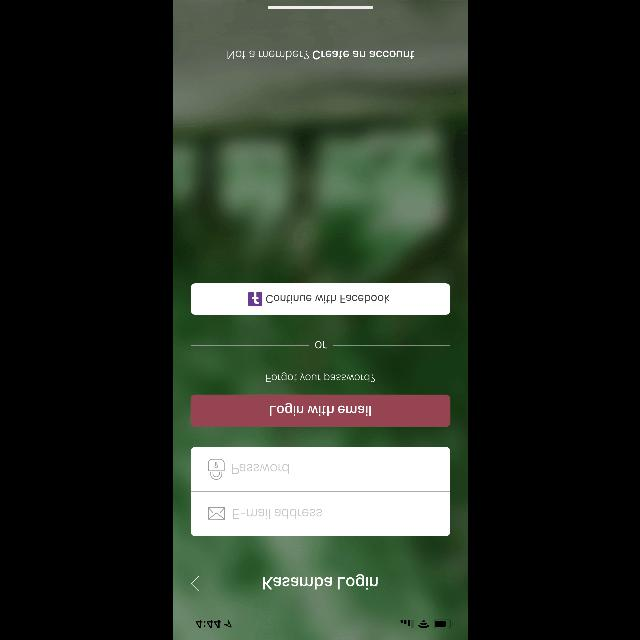backgroundimage: (172, 1, 468, 640)
icon: (207, 459, 223, 479), (208, 507, 225, 519), (190, 576, 198, 590)
input: (190, 447, 450, 491), (190, 492, 450, 536)
text: (227, 50, 413, 60), (262, 574, 378, 590), (266, 373, 374, 383), (232, 509, 322, 519), (232, 464, 288, 474), (314, 342, 326, 348)
textbutton: (190, 395, 450, 427), (190, 284, 450, 314)
uppertaskbar: (195, 620, 452, 628)
